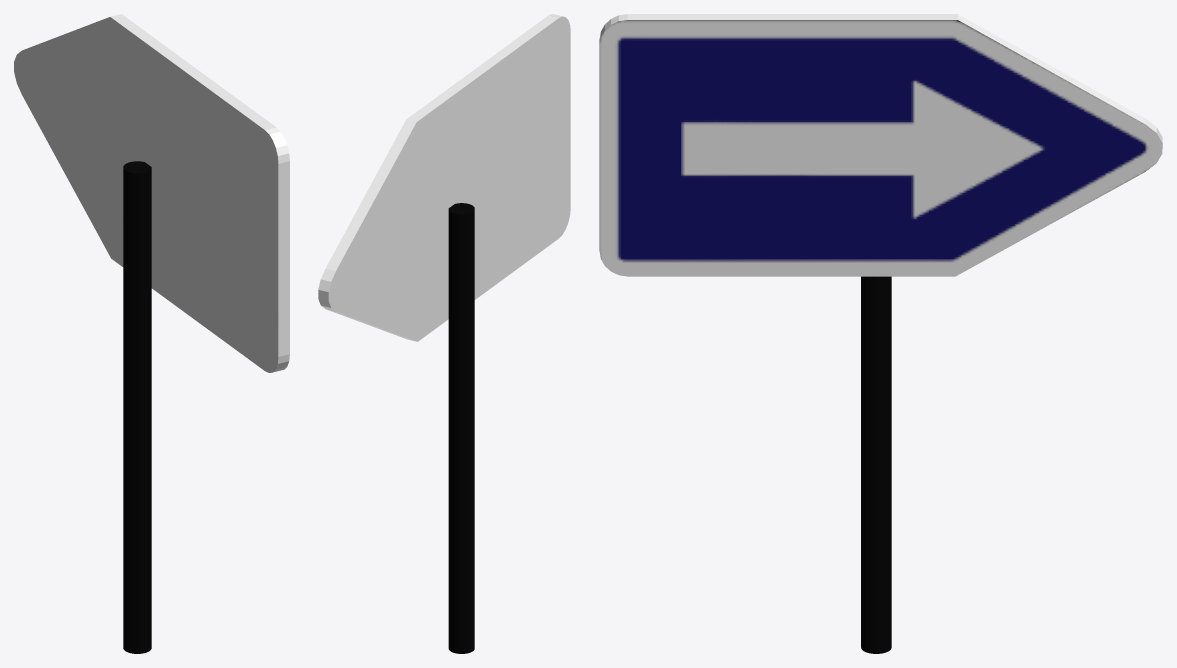
Rendered from Sign_Right_Arrow_Blue.fbx.
3 renders of one model, left to right at view 1: azimuth 30°, elevation 25°; view 2: azimuth 150°, elevation 25°; view 3: azimuth 270°, elevation 25°, orthographic. The views are drawn at different scales.
Parts seen in each view (by area): view 1: Cube.002, Pole_Park_Yellow.001; view 2: Cube.002, Pole_Park_Yellow.001; view 3: Cube.002, Pole_Park_Yellow.001.
Part boxes in pixels (<box>): Cube.002: <box>14,14,289,372</box>; Pole_Park_Yellow.001: <box>123,161,151,653</box>; Cube.002: <box>318,14,570,341</box>; Pole_Park_Yellow.001: <box>448,203,474,653</box>; Cube.002: <box>599,14,1162,276</box>; Pole_Park_Yellow.001: <box>861,276,891,653</box>.
Bounding box in the file's own units: 6.76 × 111 × 88.89.
